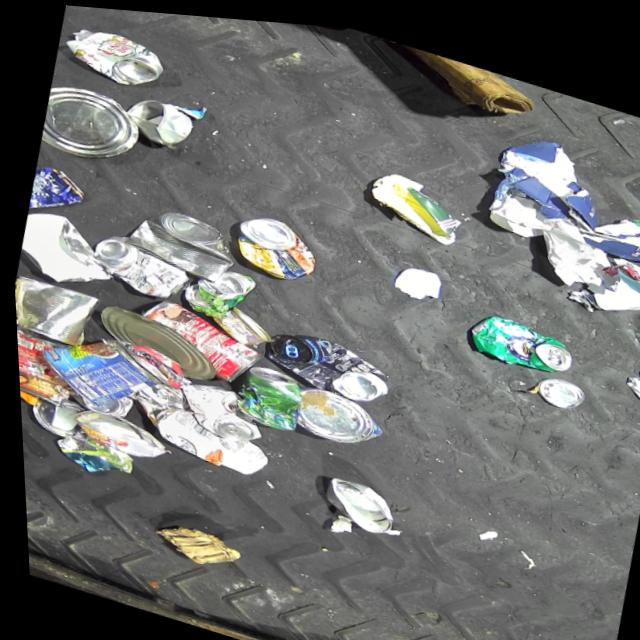can: (27, 314, 166, 421), (127, 289, 264, 386), (258, 317, 392, 404), (117, 194, 239, 285), (35, 74, 148, 172), (88, 299, 220, 382), (59, 16, 169, 92), (462, 299, 576, 372), (85, 226, 192, 303), (227, 203, 321, 283), (11, 271, 101, 352), (169, 370, 266, 444), (288, 377, 385, 450), (64, 401, 167, 462), (228, 354, 305, 428), (176, 253, 257, 322), (316, 467, 400, 533), (13, 324, 76, 407), (23, 160, 91, 229), (119, 88, 193, 149), (204, 295, 273, 348), (22, 388, 83, 441), (65, 379, 132, 420), (530, 363, 583, 404)
